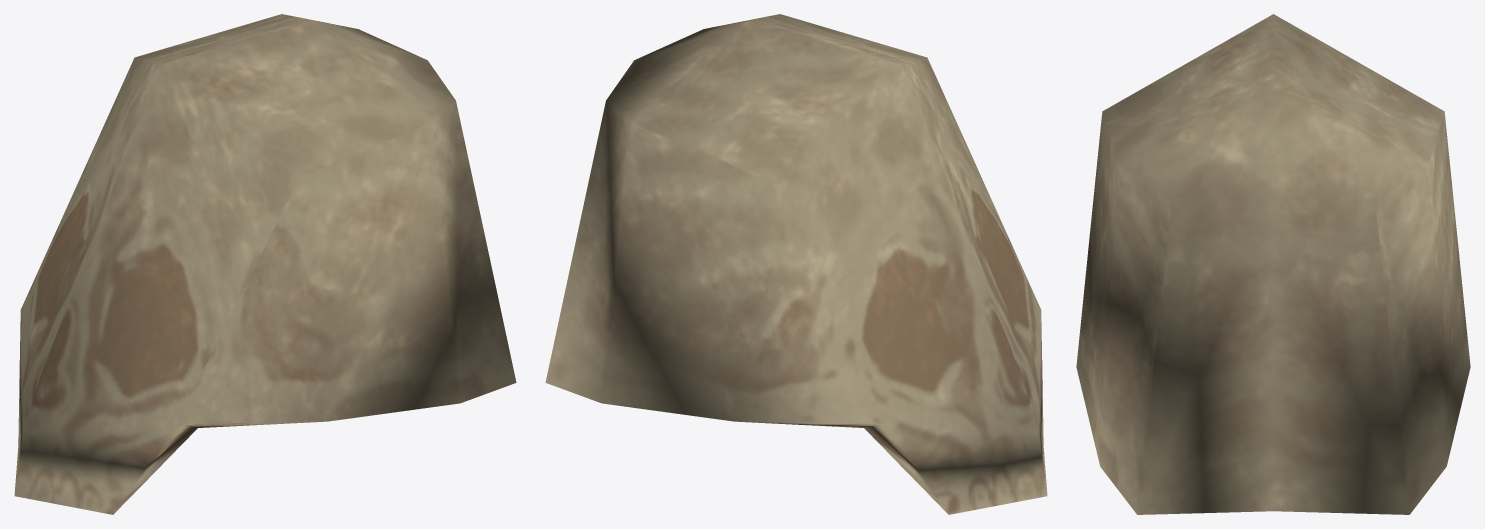
File: SuperLowSkull.fbx
3 views of the same model, side by side, from view 1: azimuth 30°, elevation 25°; view 2: azimuth 150°, elevation 25°; view 3: azimuth 270°, elevation 25° (orthographic). The views are drawn at different scales.
Visible parts, largest first — view 1: Skeleton_Skull_A; view 2: Skeleton_Skull_A; view 3: Skeleton_Skull_A.
Boxes of the visible parts, bbox=[...] form: Skeleton_Skull_A: bbox=[14, 14, 516, 514]; Skeleton_Skull_A: bbox=[545, 14, 1047, 514]; Skeleton_Skull_A: bbox=[1076, 14, 1470, 514].
Size of the model in its own units: 16.64 by 14.65 by 12.53.
1 material, 1 textured.
